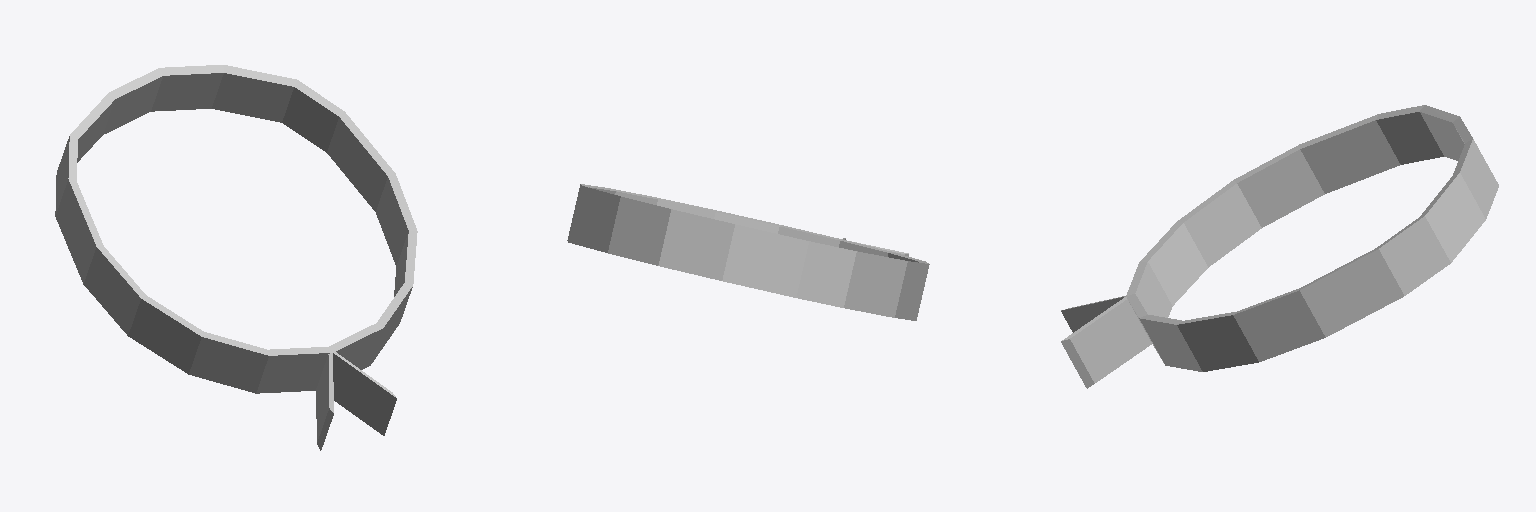
Rendered from headband_basic.sgm.obj.
3 renders of one model, left to right at view 1: azimuth 30°, elevation 25°; view 2: azimuth 150°, elevation 25°; view 3: azimuth 270°, elevation 25°, orthographic.
Size of the model in its own units: 0.4725 by 0.3547 by 0.6001.